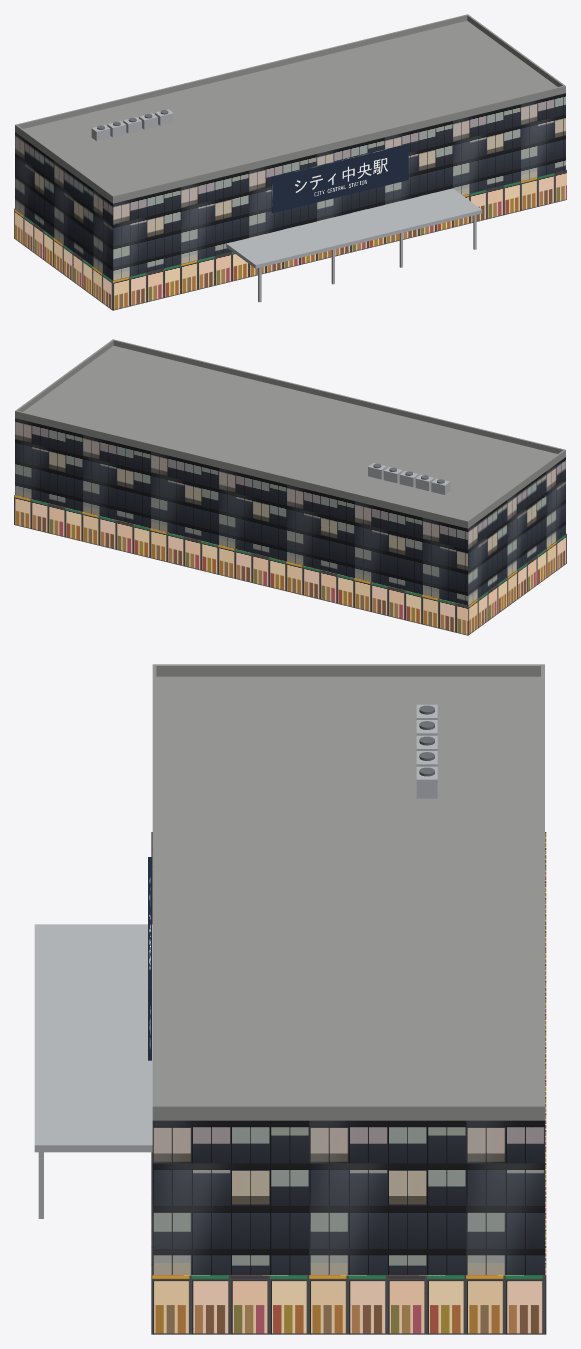
Rendered from station_building.glb.
3 views of the same model, one above another, from view 1: azimuth 30°, elevation 25°; view 2: azimuth 150°, elevation 25°; view 3: azimuth 270°, elevation 25° (orthographic). The views are drawn at different scales.
Visible parts, largest first — view 1: station_building; view 2: station_building; view 3: station_building.
Boxes of the visible parts, x1,y1,x2,y2 form: station_building: [14, 14, 566, 310]; station_building: [14, 339, 566, 635]; station_building: [34, 664, 546, 1334].
Size of the model in its own units: 80.2 by 20.1 by 39.1.
6 materials, 3 textured.
